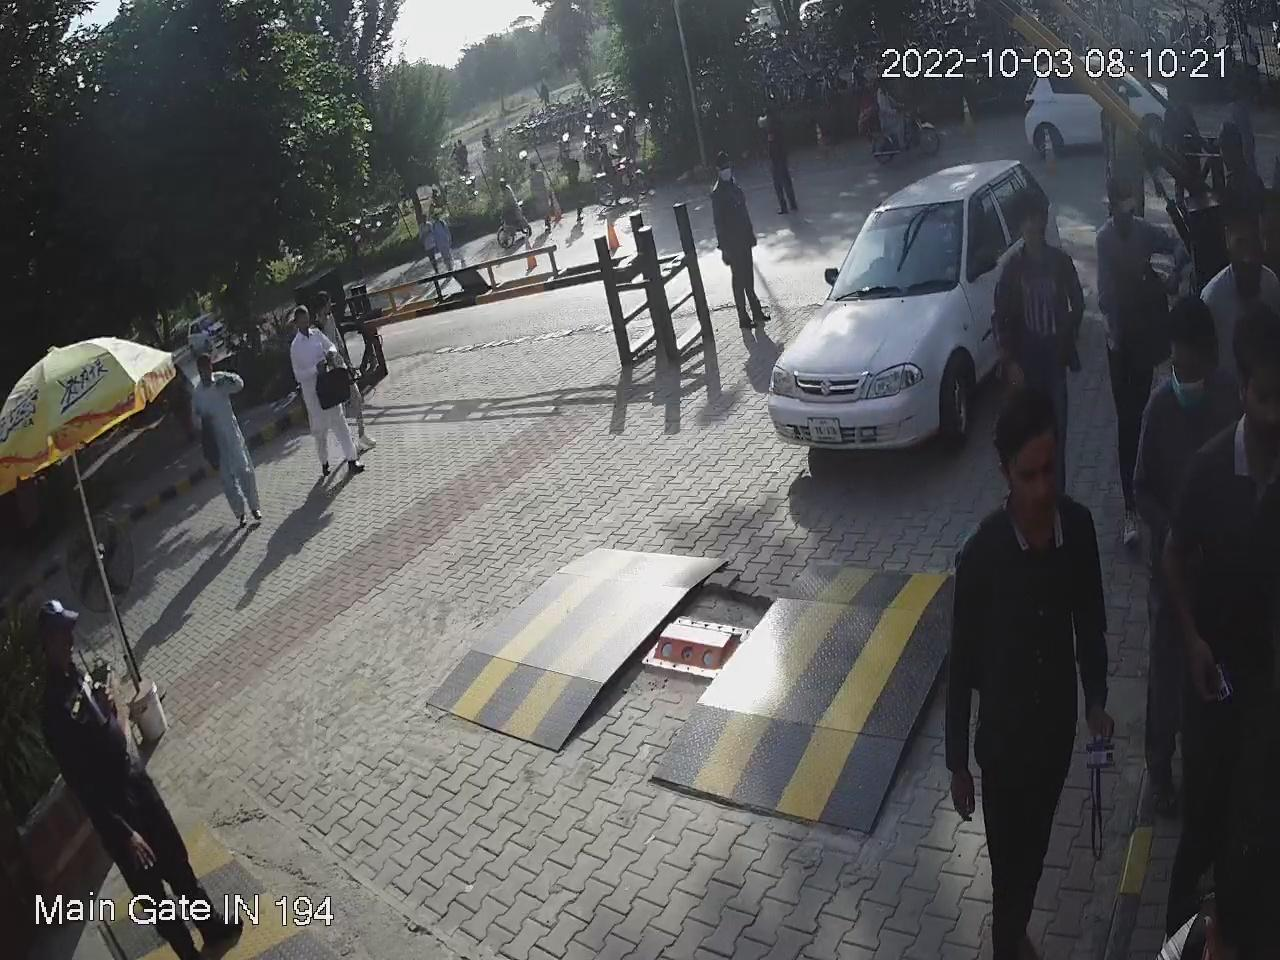windshield: (825, 198, 976, 301)
